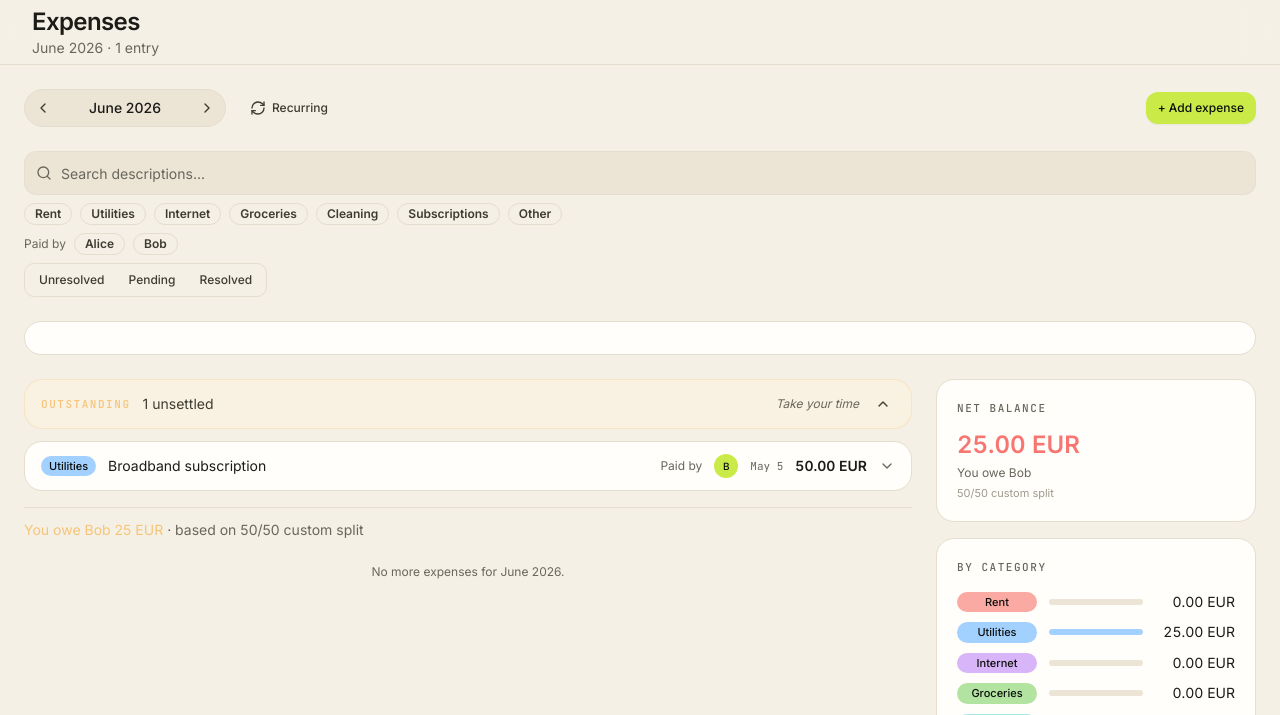
Test case: <ExpensesPage /> mode matrix › I-m.3 — split + usage_based renders usage-based signal
Click the text "Broadband subscription".
click(187, 466)  # box [108,457,266,474]
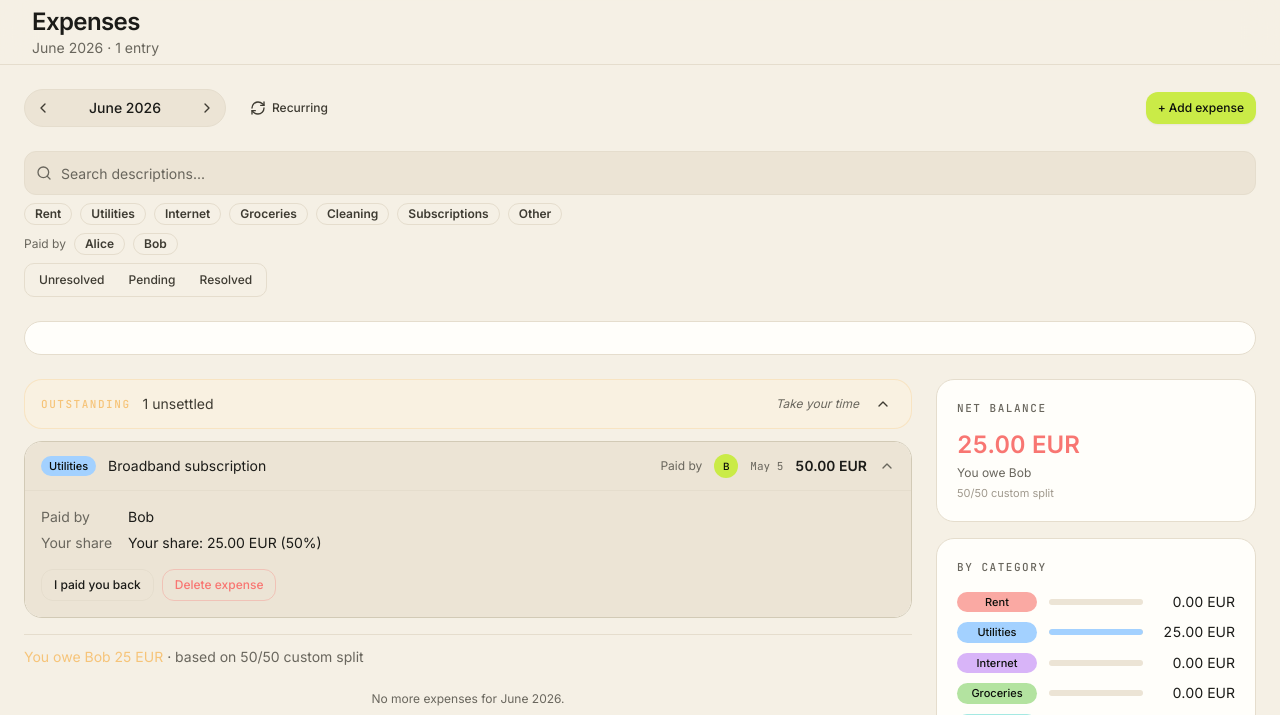
Expected: the text "· based on 50/50 custom split" is shown, [163,648,364,665]
Result: the text "Your share: 25.00 EUR (50%)" is shown at [128,534,322,551]
